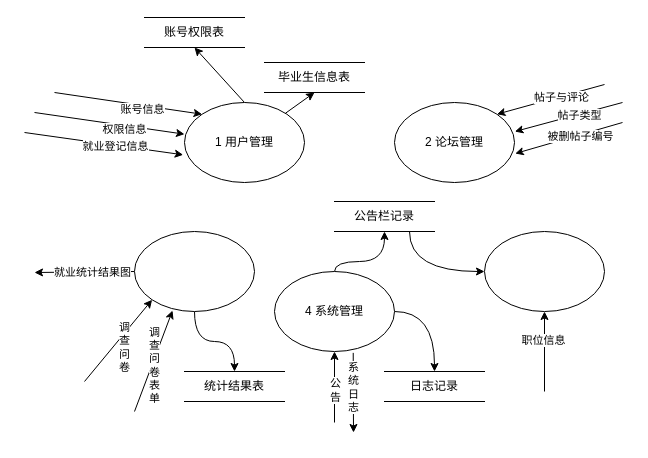
The diagram is 648 pixels wide and 458 high, and some of its shapes have lost their labels. Each missing label, with the centre of its shape:
"3 就业调查" belongs at point (194, 271).
"5 系统首页" belongs at point (544, 271).
